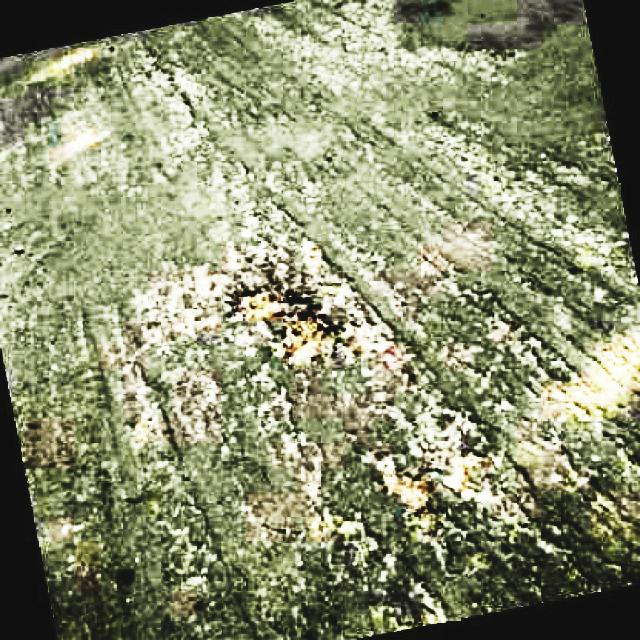pothole: (368, 448, 470, 570), (219, 274, 346, 361)
